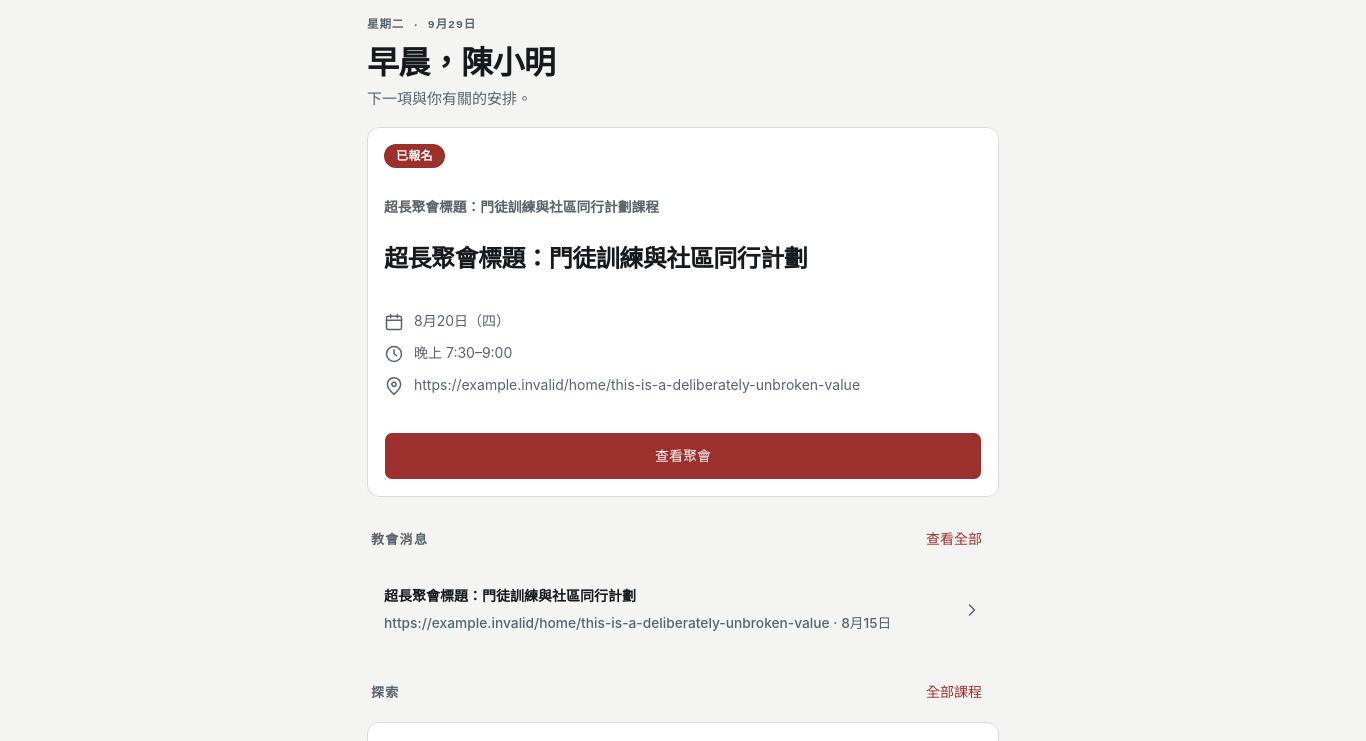
it: HomeView Component › keeps long Home card and announcement detail copy visible
Expected: the element with test id "next-event-card" shows "超長聚會標題：門徒訓練與社區同行計劃", [384,244,807,273]
Expected: the element with test id "next-event-card" shows "https://example.invalid/home/this-is-a-deliberately-unbroken-value", [414,376,860,393]
Click the button with test id "announcement-card" at (510, 596), box [367,569,999,650]
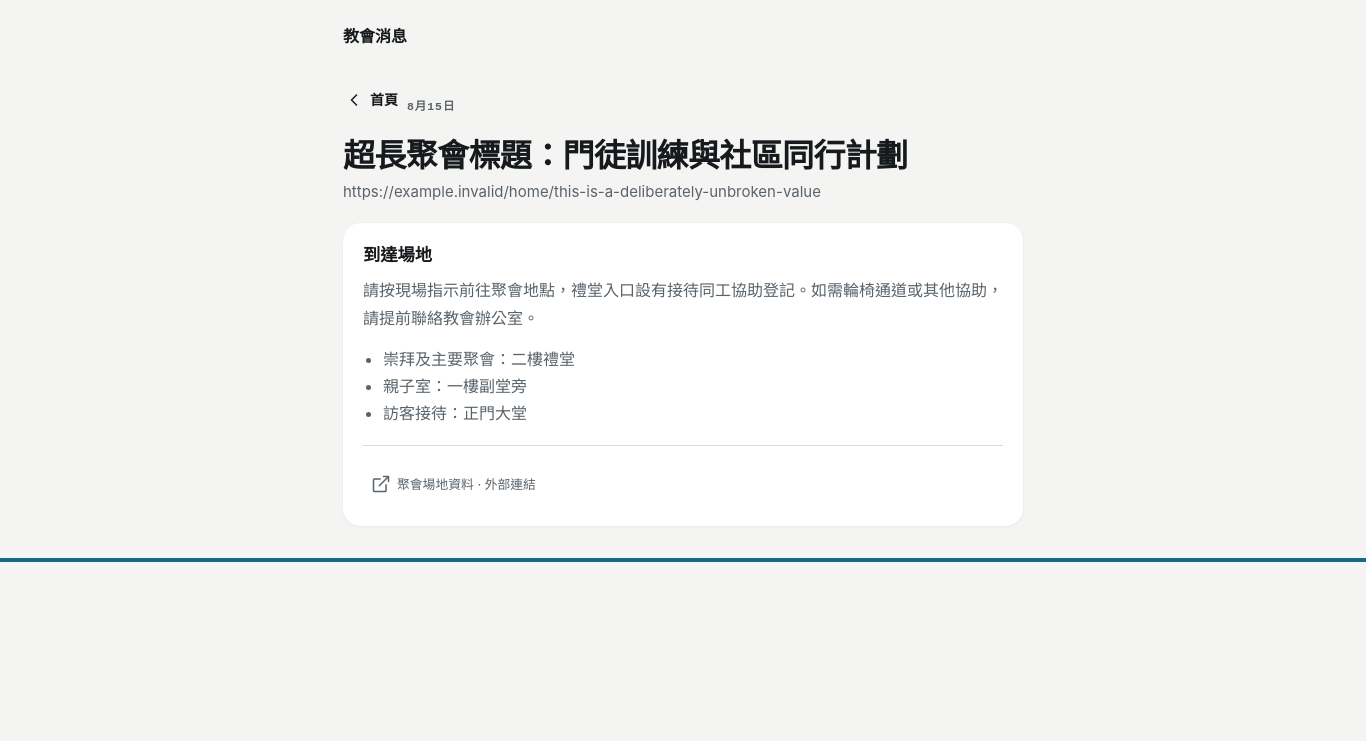
Result: the element with test id "announcement-detail" shows "超長聚會標題：門徒訓練與社區同行計劃" at [343,136,908,175]
Result: the element with test id "announcement-detail" shows "https://example.invalid/home/this-is-a-deliberately-unbroken-value" at [343,182,821,201]
Result: the button "首頁" is shown at [335,78,407,122]
